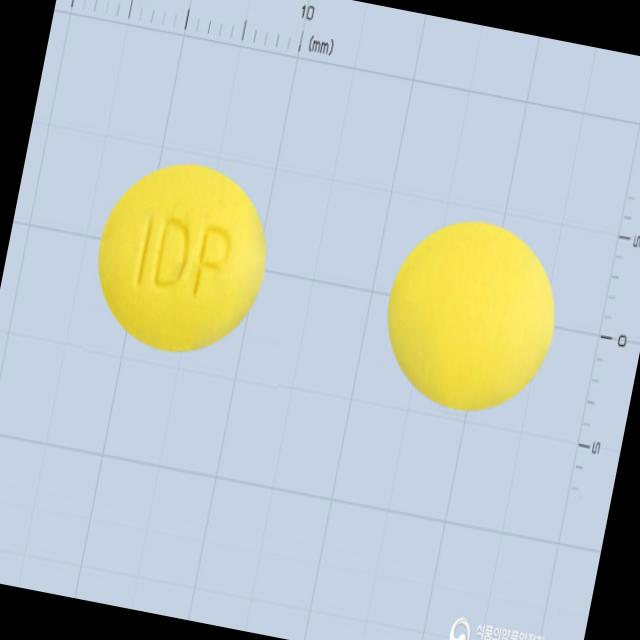Ciracle: (78, 145, 288, 371)
